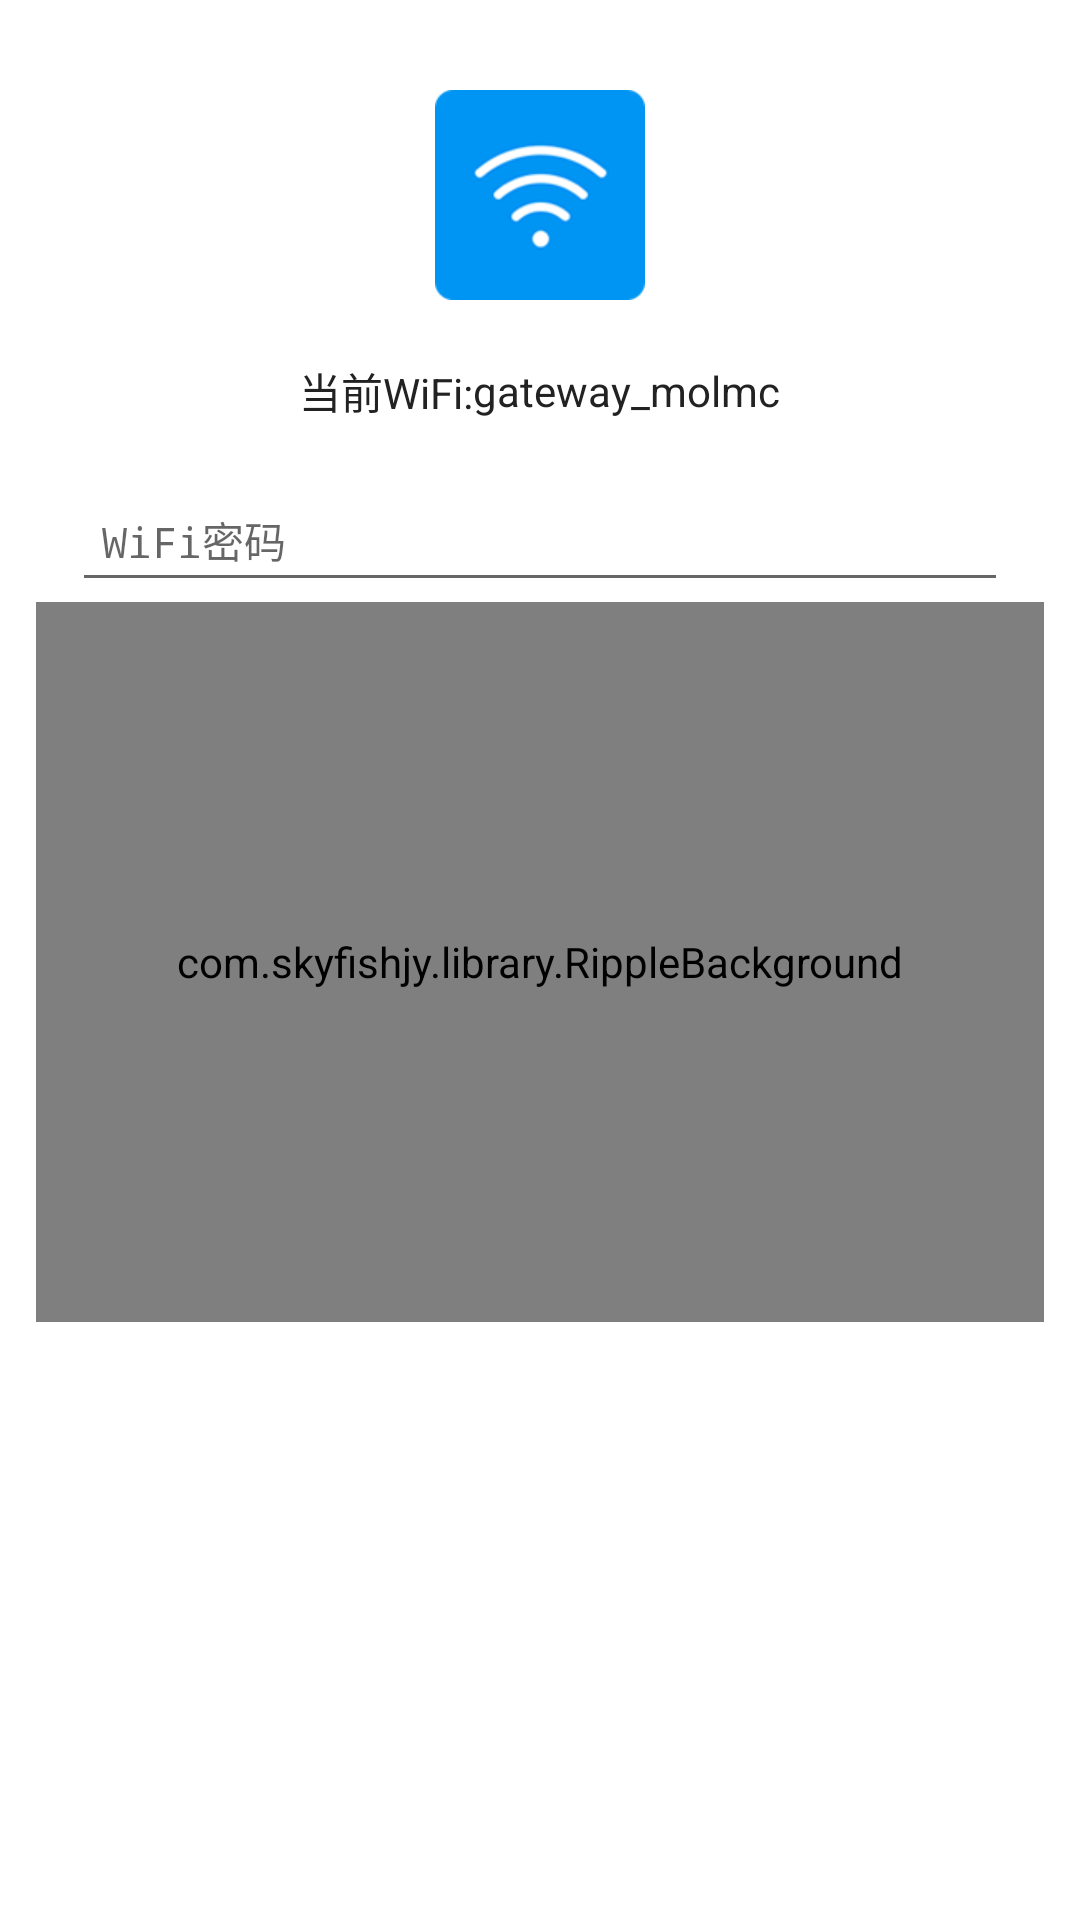

Locate icon controls on the screen. Image size 1080 x 1920, boxes as (x1, y1, x2, y2).
config wifi: (435, 90, 645, 300)
